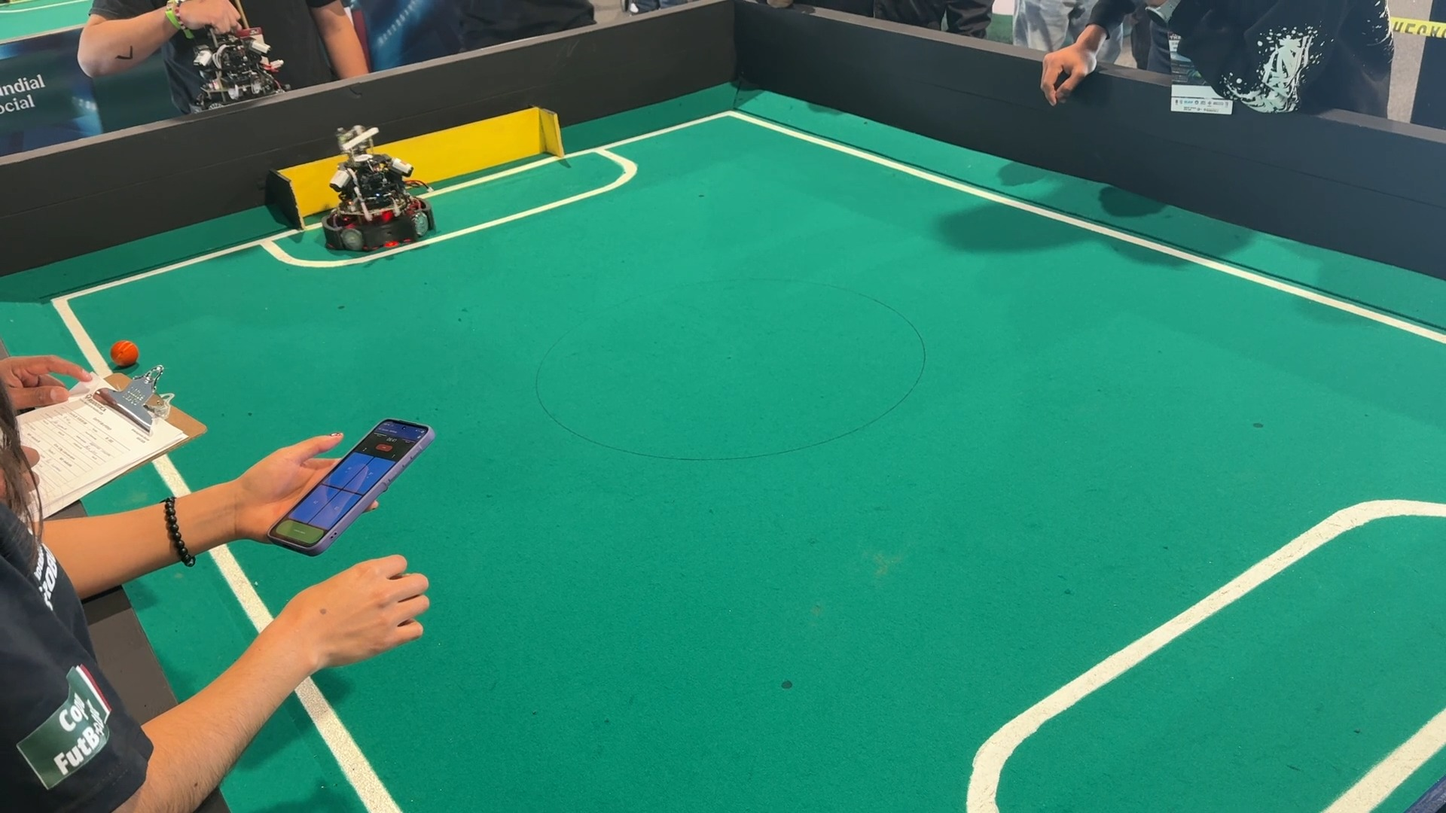Robot: (308, 115, 452, 268), (167, 13, 299, 106)
pelota: (102, 335, 145, 375)
